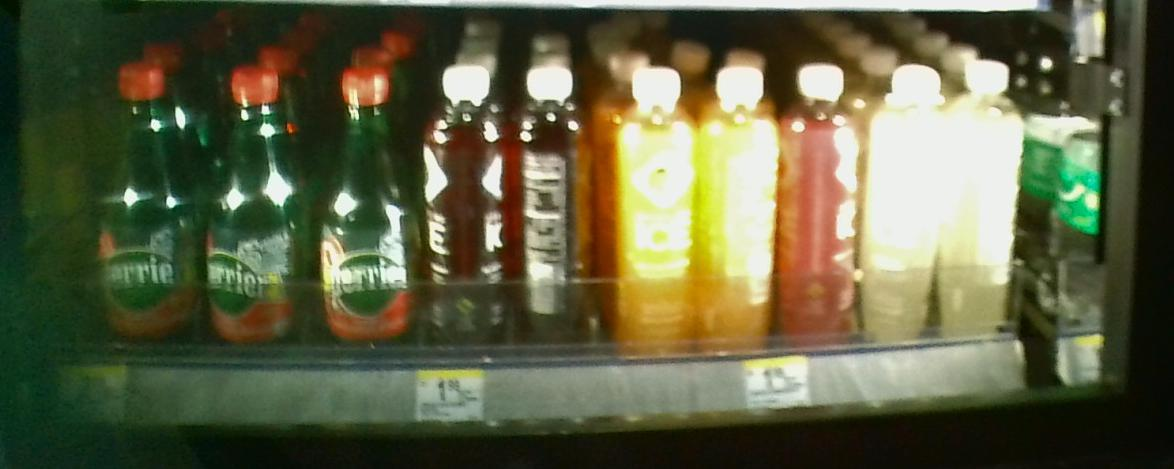bottle: (315, 63, 422, 357), (205, 59, 305, 361), (96, 54, 191, 357), (607, 60, 693, 364), (428, 52, 509, 354), (697, 66, 781, 357), (513, 69, 597, 355), (865, 55, 946, 351), (784, 59, 862, 354), (952, 53, 1025, 345)
